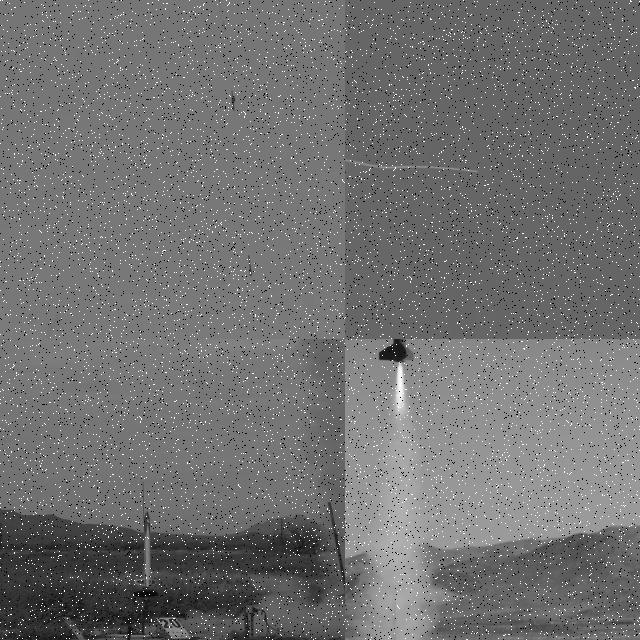Rocket: (135, 510, 158, 588), (248, 253, 253, 277), (476, 171, 478, 173)
